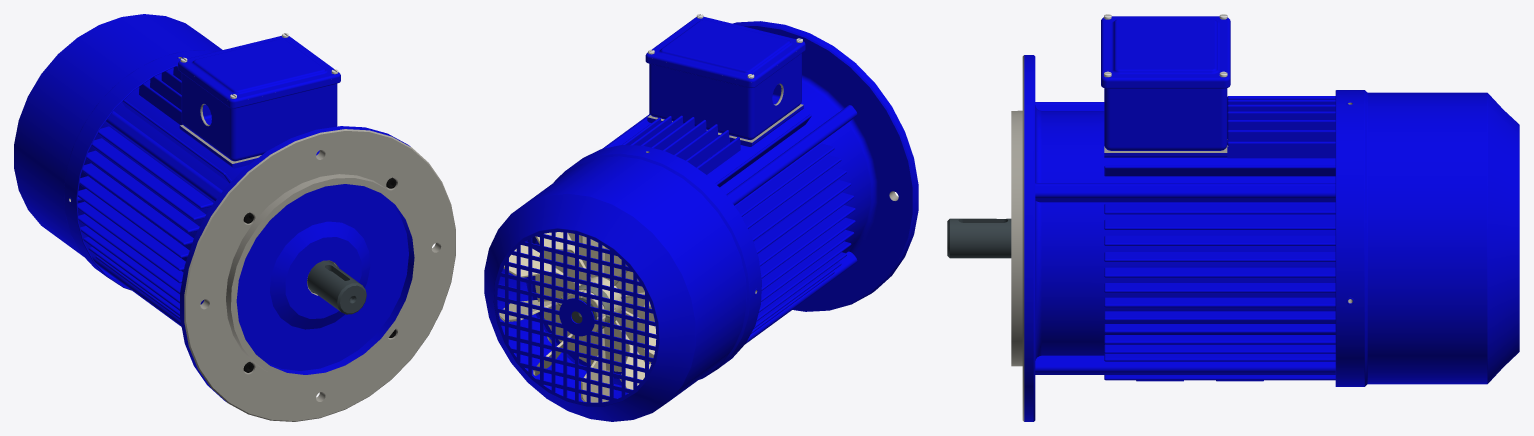
File: Induction_Motor.fbx
3 views of the same model, side by side, from view 1: azimuth 30°, elevation 25°; view 2: azimuth 150°, elevation 25°; view 3: azimuth 270°, elevation 25° (orthographic). The views are drawn at different scales.
Visible parts, largest first — view 1: FrontCap, Motorbody, Fancover, ElectricBox, ElectricBoxCap, Shaft; view 2: Fancover, Motorbody, FrontCap, ElectricBox, Fan, ElectricBoxCap, Rearcap; view 3: Motorbody, Fancover, FrontCap, ElectricBox, ElectricBoxCap, Shaft.
Boxes of the visible parts, left/top/right/bottom form: FrontCap: left=180, top=126, right=455, bottom=421; Motorbody: left=70, top=58, right=319, bottom=326; Fancover: left=14, top=14, right=222, bottom=290; ElectricBox: left=178, top=64, right=340, bottom=161; ElectricBoxCap: left=178, top=35, right=340, bottom=102; Shaft: left=307, top=260, right=366, bottom=314; Fancover: left=484, top=145, right=761, bottom=421; Motorbody: left=602, top=104, right=855, bottom=343; FrontCap: left=649, top=21, right=918, bottom=311; ElectricBox: left=645, top=45, right=805, bottom=139; Fan: left=499, top=232, right=656, bottom=402; ElectricBoxCap: left=645, top=16, right=805, bottom=82; Rearcap: left=525, top=236, right=651, bottom=385; Motorbody: left=1091, top=96, right=1352, bottom=381; Fancover: left=1335, top=90, right=1519, bottom=386; FrontCap: left=1011, top=55, right=1091, bottom=421; ElectricBox: left=1101, top=79, right=1230, bottom=150; ElectricBoxCap: left=1101, top=16, right=1230, bottom=81; Shaft: left=947, top=218, right=1011, bottom=258.
Size of the model in its own units: 22.9 by 24.9 by 35.77.
